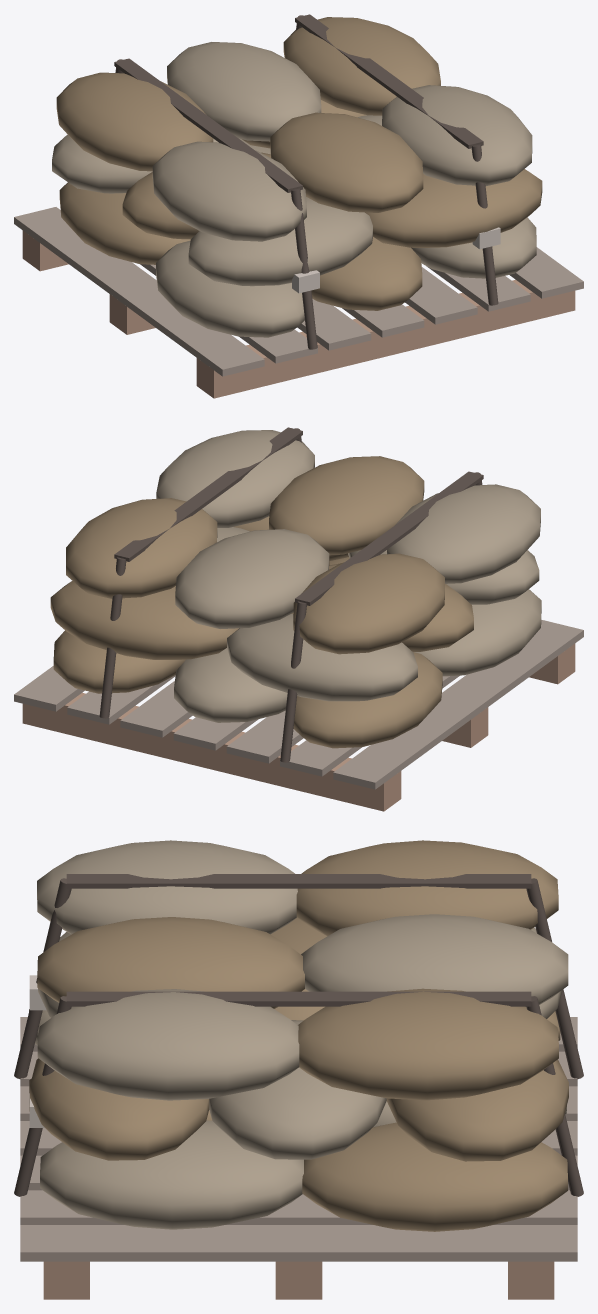
File: D05_pallet_with_sacks.glb
3 renders of one model, top to bottom at view 1: azimuth 30°, elevation 25°; view 2: azimuth 150°, elevation 25°; view 3: azimuth 270°, elevation 25°, orthographic. The views are drawn at different scales.
Parts seen in each view (by area): view 1: sack, pallet_board, pallet_runner, strap_buckle; view 2: sack, pallet_board, pallet_runner; view 3: sack, pallet_board, pallet_runner, strap_buckle.
Boxes of the visible parts, x1,y1,x2,y2 form: sack: [52, 14, 542, 349]; pallet_board: [14, 207, 583, 376]; pallet_runner: [22, 230, 575, 398]; strap_buckle: [292, 227, 500, 293]; sack: [50, 427, 541, 762]; pallet_board: [14, 620, 583, 789]; pallet_runner: [22, 643, 575, 811]; sack: [14, 840, 583, 1231]; pallet_board: [20, 1017, 577, 1261]; pallet_runner: [43, 1261, 554, 1299]; strap_buckle: [29, 975, 46, 1127].
Bounding box in the file's own units: 1.2 × 0.592 × 1.23.
